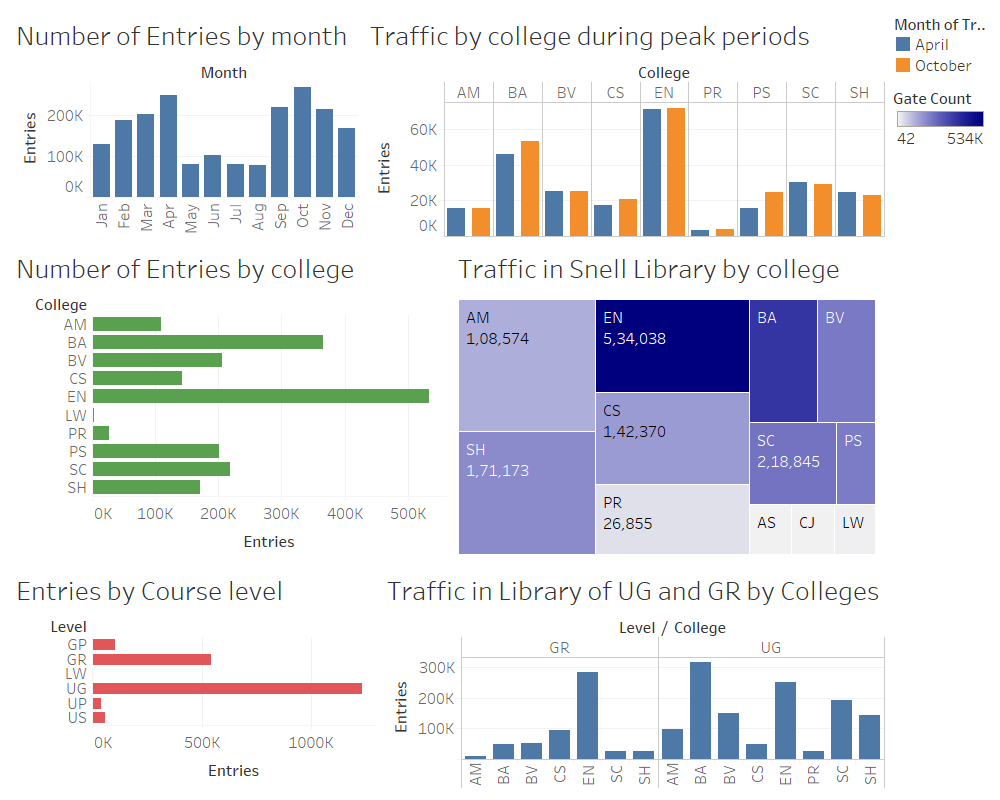

The dashboard page shown, as its layout file describes it:
{"tool":"tableau","page":{"name":"Dashboard 3","canvas":[1000,800],"ordinal":2},"visuals":[{"type":"worksheet","title":"Number of Entries by college","mark":"Bar","rows":["Number of Records"],"cols":["COLL"],"box":[8,8,412,258]},{"type":"worksheet","title":"Number of Entries by month","mark":"Automatic","rows":["Number of Records"],"cols":["month"],"box":[420,8,412,258]},{"type":"legend","title":"Traffic by college during peak periods","param":"[federated.09nlxz81p8bic21clvbzr0cd9j7c].[mn:TRAN_DATE:ok]","box":[832,8,160,72]},{"type":"legend","title":"Traffic Snell Library by college","param":"[federated.12sut5t1jwmbw31bfuc1t1hshs51].[sum:gate count:qk]","box":[832,80,160,73]},{"type":"worksheet","title":"Traffic by college during peak periods","mark":"Bar","rows":["Number of Records"],"cols":["COLL","TRAN_DATE"],"box":[8,266,510,288]},{"type":"worksheet","title":"Traffic Snell Library by college","mark":"Automatic","box":[518,266,314,288]},{"type":"worksheet","title":"Number of Entries by Course level","mark":"Automatic","rows":["Number of Records"],"cols":["LEVEL"],"box":[8,554,412,238]},{"type":"worksheet","title":"Traffic in Snell Library of UG and GR by Colleges","mark":"Automatic","rows":["Number of Records"],"cols":["LEVEL","COLL"],"box":[420,554,412,238]}]}

Visuals, with their boxes in screenshot pixels (x1, y1, x2, y2), scaled from the page's 1000x800 canvas onto the 1000x800 screenshot:
"Number of Entries by college" worksheet (Bar marks): [8,8,420,266]
"Number of Entries by month" worksheet: [420,8,832,266]
"Traffic by college during peak periods" legend: [832,8,992,80]
"Traffic Snell Library by college" legend: [832,80,992,153]
"Traffic by college during peak periods" worksheet (Bar marks): [8,266,518,554]
"Traffic Snell Library by college" worksheet: [518,266,832,554]
"Number of Entries by Course level" worksheet: [8,554,420,792]
"Traffic in Snell Library of UG and GR by Colleges" worksheet: [420,554,832,792]
